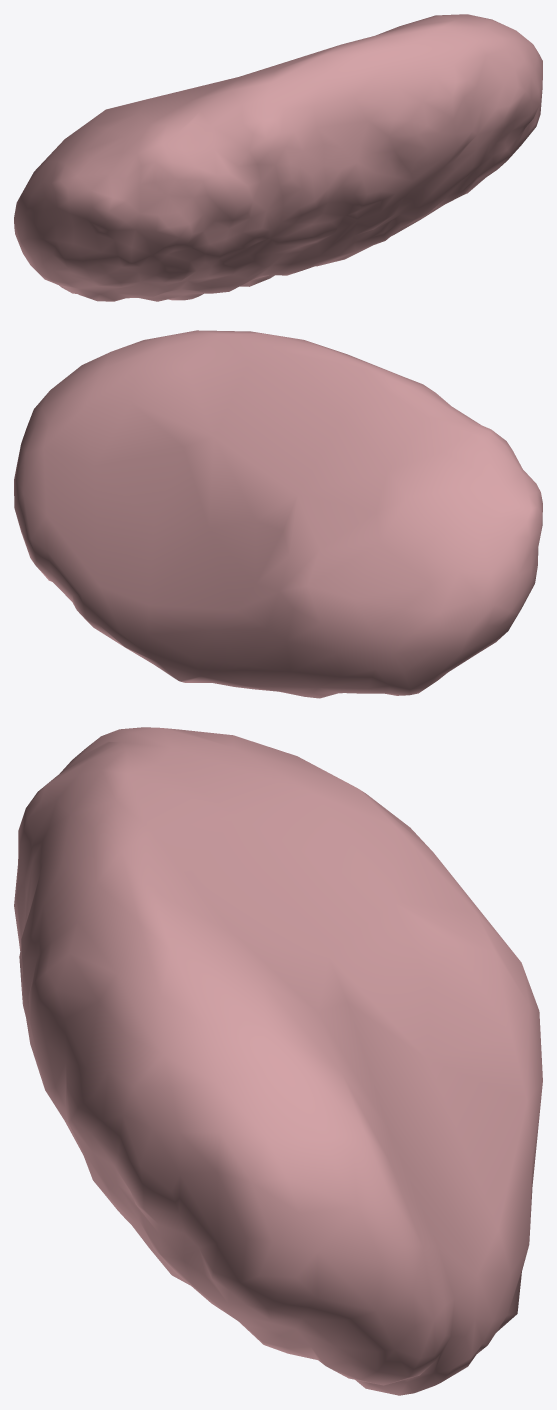
Rendered from fma54970_mm1159.glb.
3 renders of one model, top to bottom at view 1: azimuth 30°, elevation 25°; view 2: azimuth 150°, elevation 25°; view 3: azimuth 270°, elevation 25°, orthographic. The views are drawn at different scales.
Parts seen in each view (by area): view 1: FMA54970_MM1159; view 2: FMA54970_MM1159; view 3: FMA54970_MM1159.
Part boxes in pixels (left/top/right/bottom): FMA54970_MM1159: left=14, top=14, right=542, bottom=301; FMA54970_MM1159: left=14, top=330, right=542, bottom=698; FMA54970_MM1159: left=14, top=727, right=542, bottom=1395.
Size of the model in its own units: 0.0161 by 0.00846 by 0.00812.
